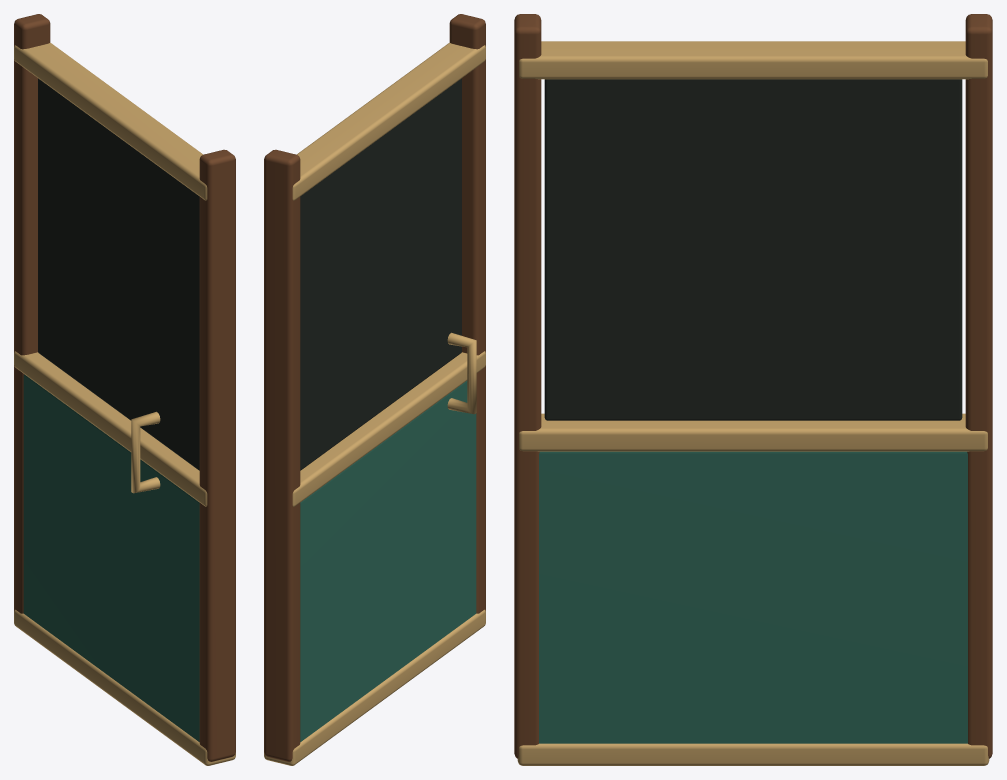
The model's file is VestibuleDoor.fbx.
The picture shows the model from 3 angles, left to right: view 1: azimuth 30°, elevation 25°; view 2: azimuth 150°, elevation 25°; view 3: azimuth 270°, elevation 25°; orthographic projection. The views are drawn at different scales.
Parts seen in each view (by area): view 1: Vestibule / upper glass, Vestibule / lower door panel, Vestibule / door stile, Vestibule / door stile.001, Vestibule / crossrail.002, Vestibule / crossrail.001, Vestibule / crossrail, Vestibule / pull handle; view 2: Vestibule / upper glass, Vestibule / lower door panel, Vestibule / door stile.001, Vestibule / door stile, Vestibule / crossrail.002, Vestibule / crossrail.001, Vestibule / crossrail, Vestibule / pull handle; view 3: Vestibule / upper glass, Vestibule / lower door panel, Vestibule / door stile, Vestibule / door stile.001, Vestibule / crossrail.002, Vestibule / crossrail.001, Vestibule / crossrail.
Part boxes in pixels (x1,y1,x2,y2): Vestibule / upper glass: (38,78,199,470); Vestibule / lower door panel: (23,374,199,741); Vestibule / door stile: (199,149,235,761); Vestibule / door stile.001: (14,14,50,613); Vestibule / crossrail.002: (14,42,207,200); Vestibule / crossrail.001: (14,351,207,506); Vestibule / crossrail: (14,609,235,765); Vestibule / pull handle: (131,411,160,493); Vestibule / upper glass: (300,78,461,470); Vestibule / lower door panel: (300,380,476,741); Vestibule / door stile.001: (264,149,300,761); Vestibule / door stile: (449,14,485,613); Vestibule / crossrail.002: (292,42,485,200); Vestibule / crossrail.001: (292,351,485,506); Vestibule / crossrail: (264,609,485,765); Vestibule / pull handle: (447,332,476,414); Vestibule / upper glass: (544,79,962,420); Vestibule / lower door panel: (539,451,967,743); Vestibule / door stile: (514,14,541,758); Vestibule / door stile.001: (965,14,992,758); Vestibule / crossrail.002: (519,41,987,79); Vestibule / crossrail.001: (519,413,987,451); Vestibule / crossrail: (517,743,989,765).
Bounding box in the file's own units: 25.98 × 242 × 142.
